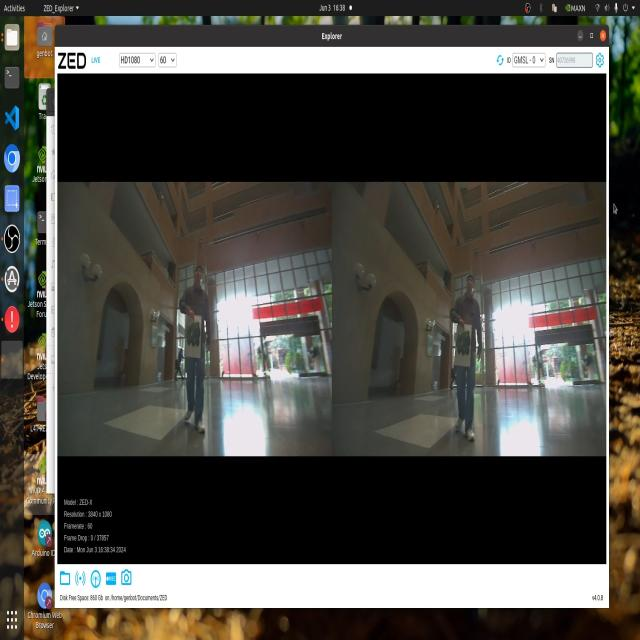green: (180, 308, 207, 359), (454, 319, 471, 365)
